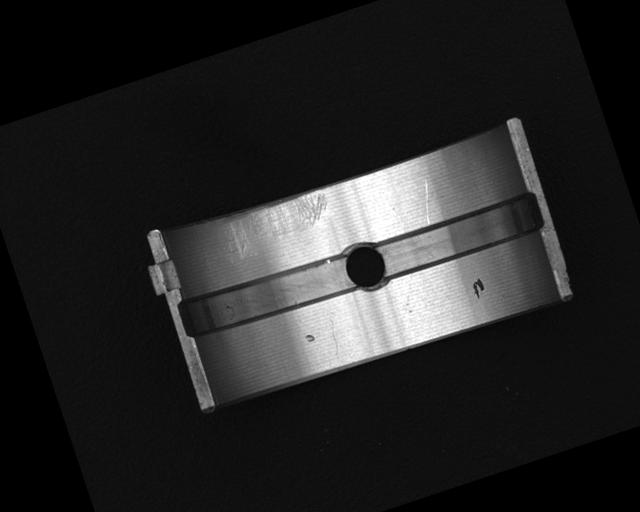blot: (468, 275, 487, 300)
bruise: (303, 332, 316, 344)
gap: (175, 244, 362, 346), (371, 187, 550, 283)
hole: (337, 233, 393, 297)
nick: (414, 177, 441, 224), (325, 319, 343, 355)
scratch: (216, 183, 337, 262)
